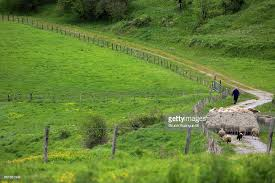sheep: (249, 128, 263, 142), (221, 135, 233, 147), (234, 131, 245, 143)
